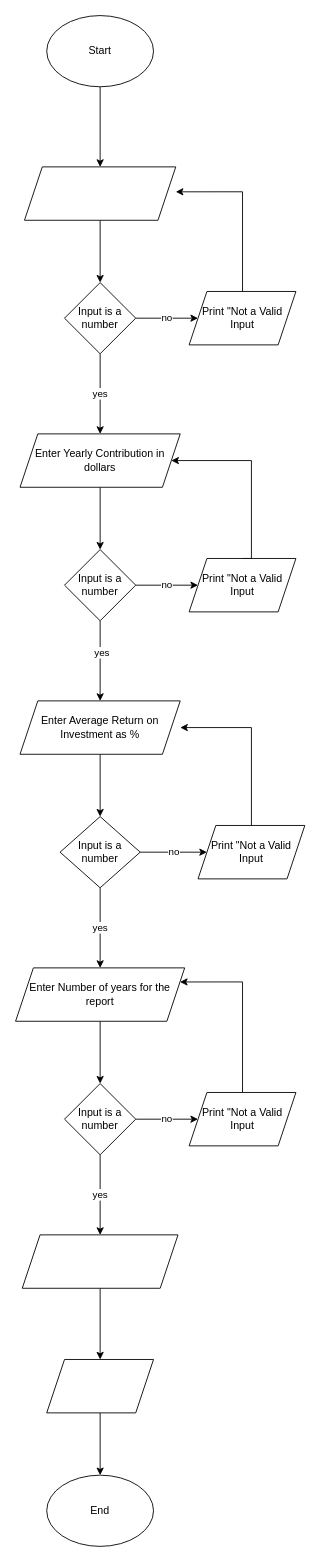
Some shapes in this 320 by 1562 pixel diagram are drawn without their labels. Here are the shapes that lost their labels. From the top down, the centre of each, then its label:
the point at 100,193: Enter Starting Balance in dollars
the point at 99,1261: Calculate Total for all years
the point at 100,1386: Display answers
